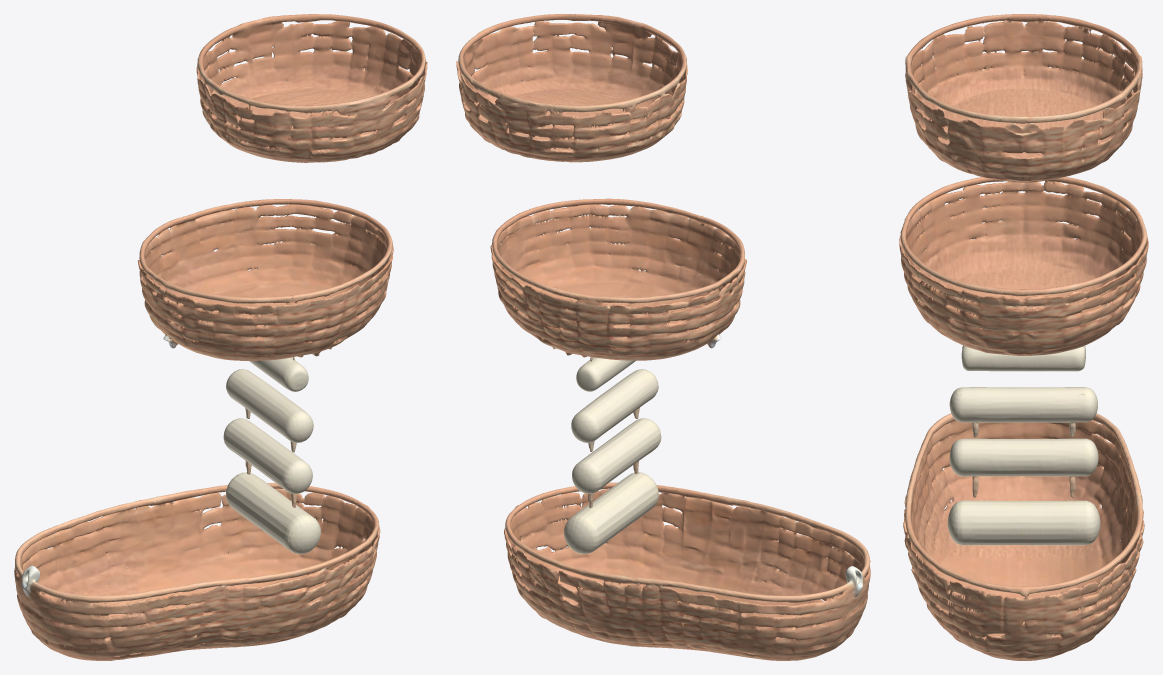
File: raw.glb
3 renders of one model, left to right at view 1: azimuth 30°, elevation 25°; view 2: azimuth 150°, elevation 25°; view 3: azimuth 270°, elevation 25°, orthographic. The views are drawn at different scales.
Visible parts, largest first — view 1: tripo_node_2e8d2e1e-aca8-4b38-a492-af17af732e3a; view 2: tripo_node_2e8d2e1e-aca8-4b38-a492-af17af732e3a; view 3: tripo_node_2e8d2e1e-aca8-4b38-a492-af17af732e3a.
Part boxes in pixels (x1,y1,x2,y2): tripo_node_2e8d2e1e-aca8-4b38-a492-af17af732e3a: (14, 14, 427, 660); tripo_node_2e8d2e1e-aca8-4b38-a492-af17af732e3a: (456, 14, 870, 660); tripo_node_2e8d2e1e-aca8-4b38-a492-af17af732e3a: (899, 14, 1148, 660).
Size of the model in its own units: 0.477 by 0.6466 by 0.2457.
1 material, 1 textured.
